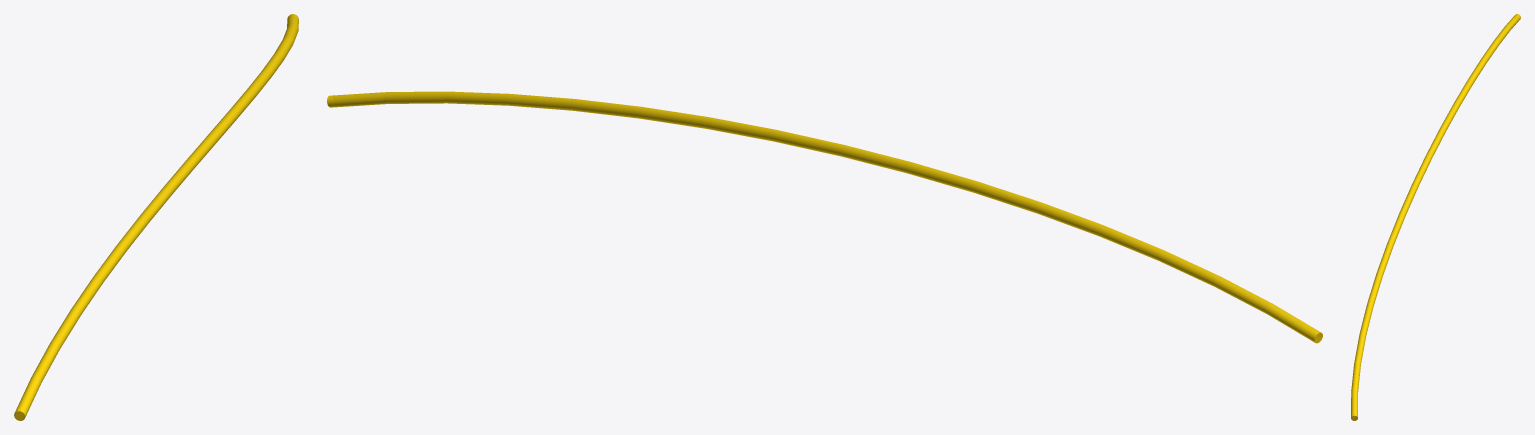
The model's file is Event_420107950_track_73.fbx.
3 views of the same model, side by side, from view 1: azimuth 90°, elevation 25°; view 2: azimuth 150°, elevation 25°; view 3: azimuth 270°, elevation 25° (orthographic). The views are drawn at different scales.
Visible parts, largest first — view 1: Model; view 2: Model; view 3: Model.
Part boxes in pixels (bbox=[...]): Model: bbox=[14, 14, 298, 420]; Model: bbox=[327, 91, 1322, 343]; Model: bbox=[1351, 14, 1520, 420].
Size of the model in its own units: 4.35 by 0.6197 by 0.9777.
